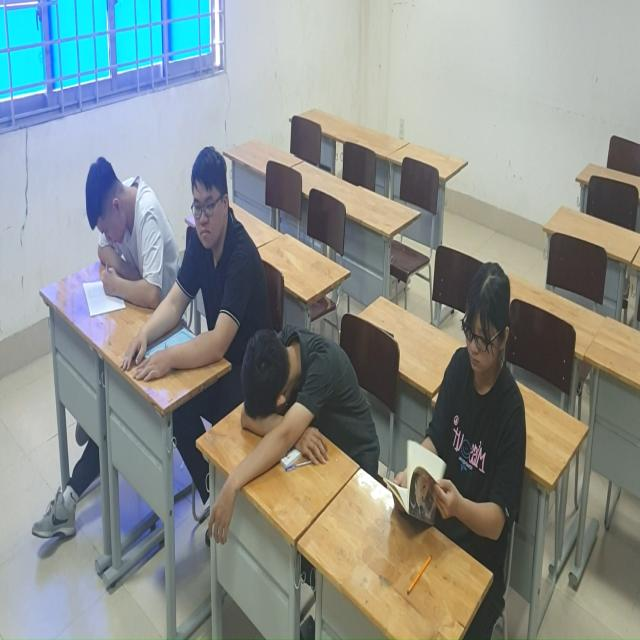read: (382, 249, 539, 579), (128, 143, 263, 383), (79, 145, 171, 324)
sleep: (234, 313, 378, 479)
